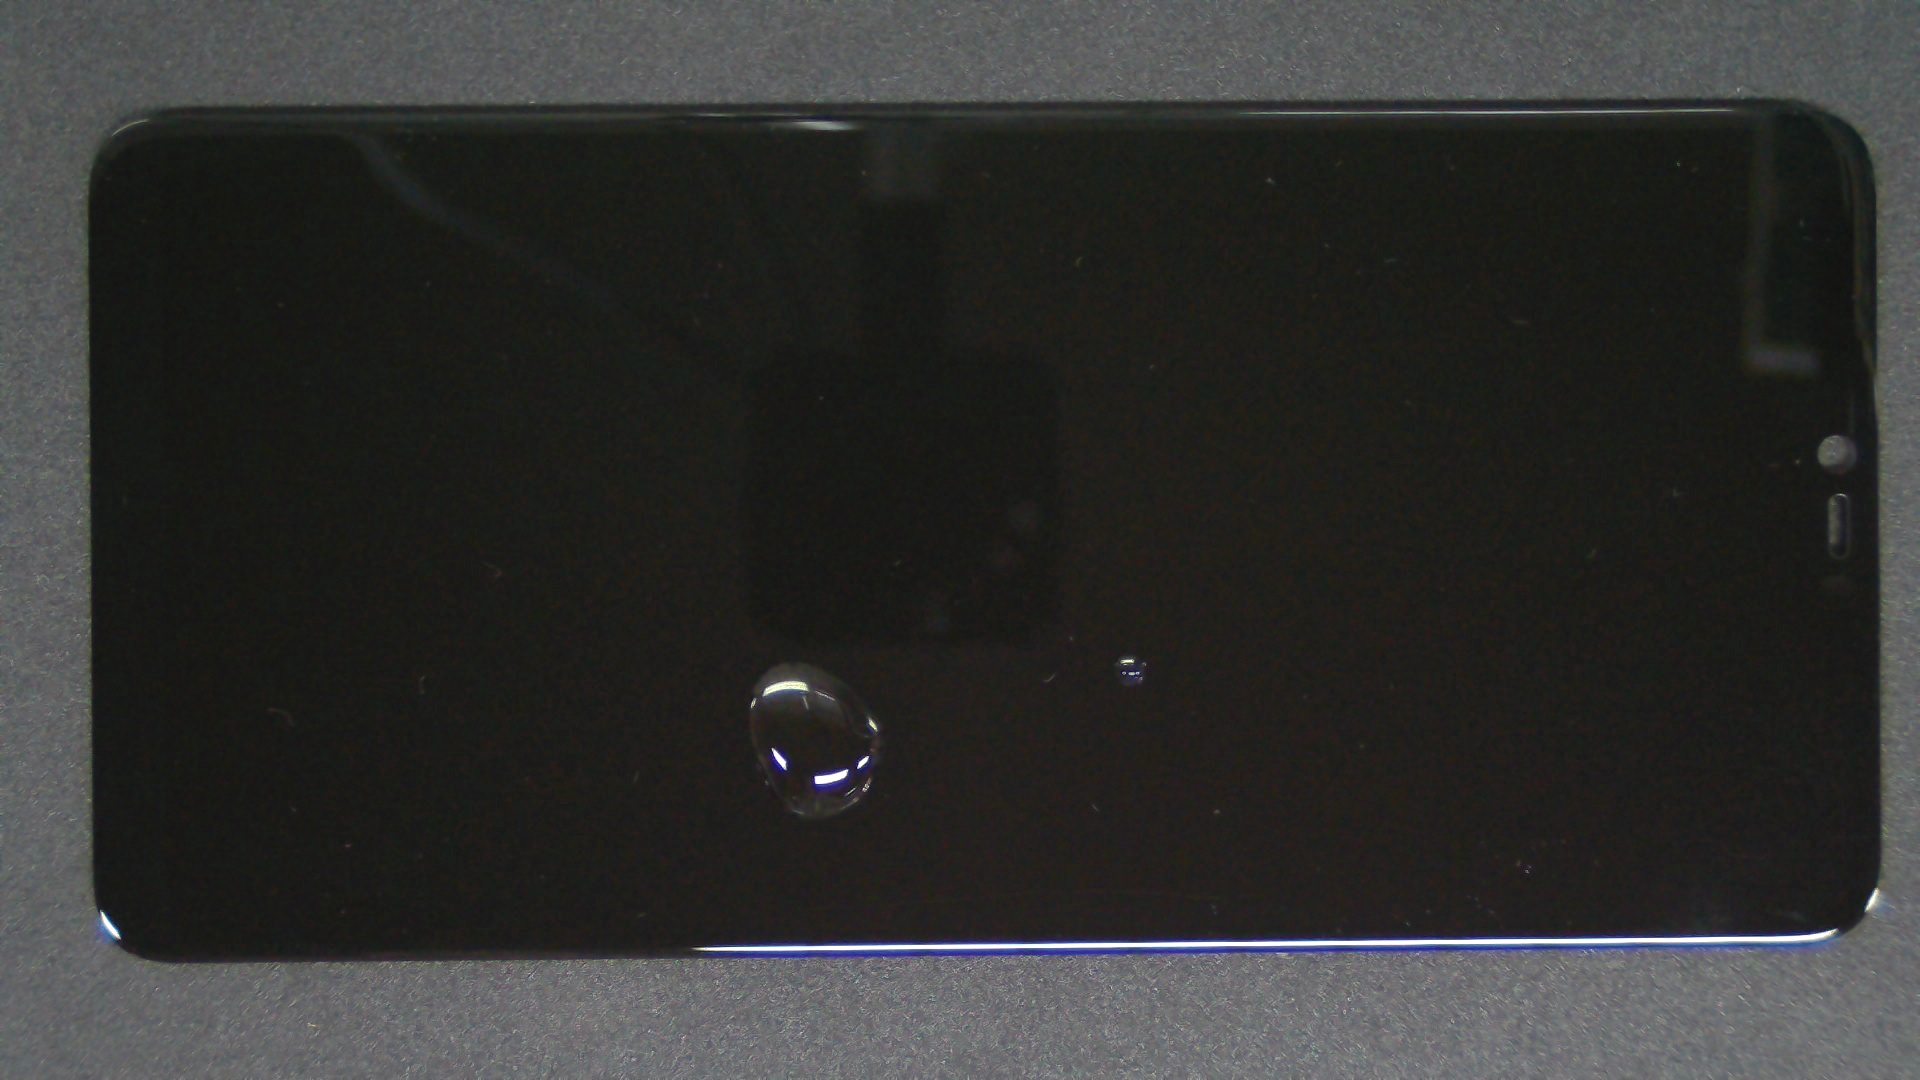oil: (564, 327, 1693, 981), (392, 331, 1174, 996)
